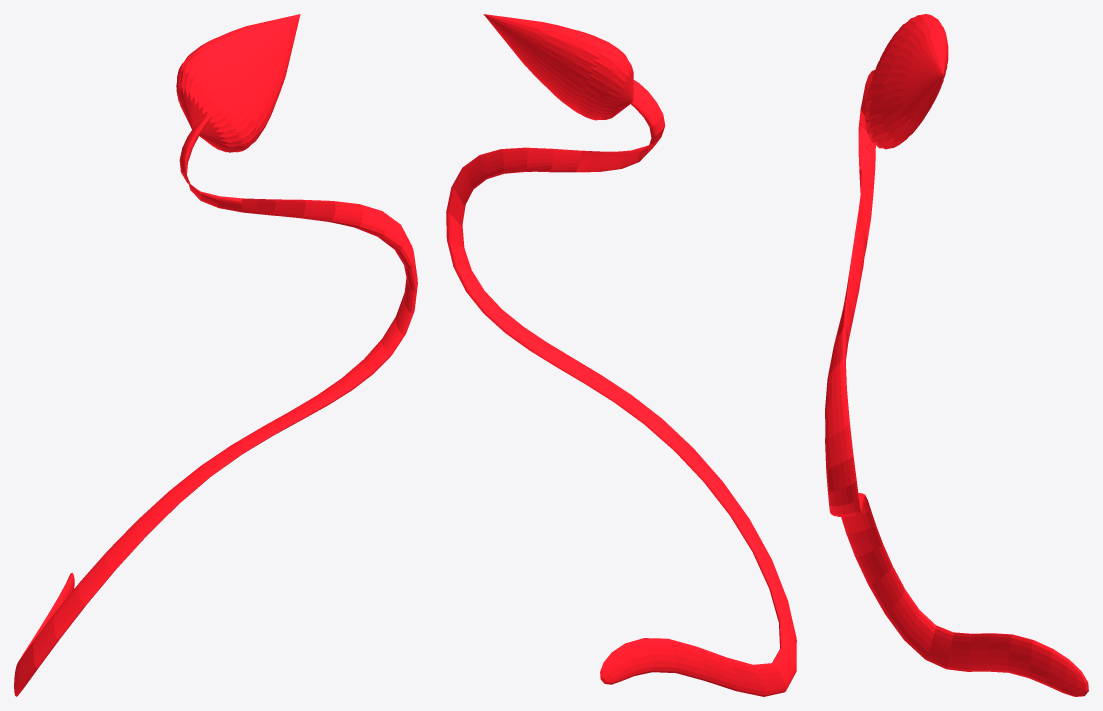
The model's file is tail.gltf.
The picture shows the model from 3 angles, left to right: view 1: azimuth 30°, elevation 25°; view 2: azimuth 150°, elevation 25°; view 3: azimuth 270°, elevation 25°; orthographic projection. The views are drawn at different scales.
Parts seen in each view (by area): view 1: model.001; view 2: model.001; view 3: model.001.
Boxes of the visible parts, x1,y1,x2,y2 form: model.001: [14, 14, 417, 696]; model.001: [446, 14, 796, 696]; model.001: [825, 14, 1088, 696].
Bounding box in the file's own units: 0.4536 × 0.7142 × 0.2223.
